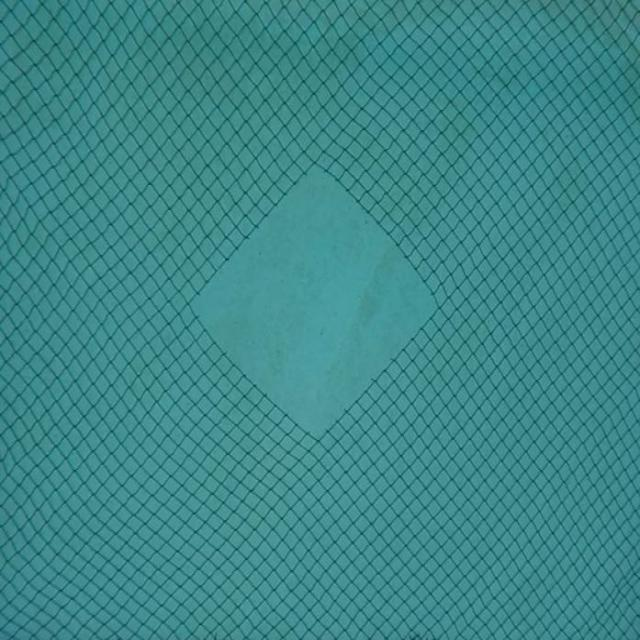fence line: (177, 141, 460, 452)
